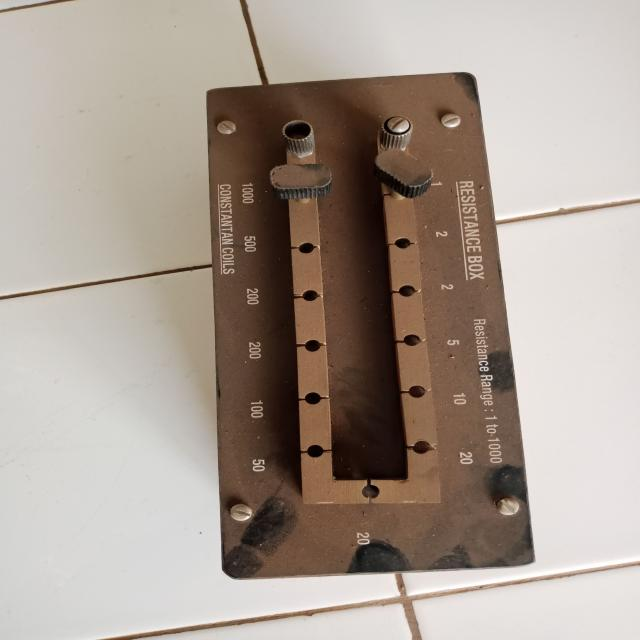Pinned Resistance Box: (177, 57, 550, 592)
